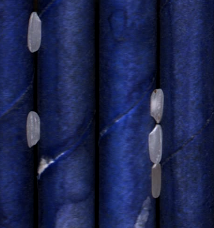complete_grain: (147, 123, 166, 166), (26, 10, 43, 54), (149, 162, 167, 201), (26, 110, 42, 151)
milky_grain: (149, 87, 165, 125)
